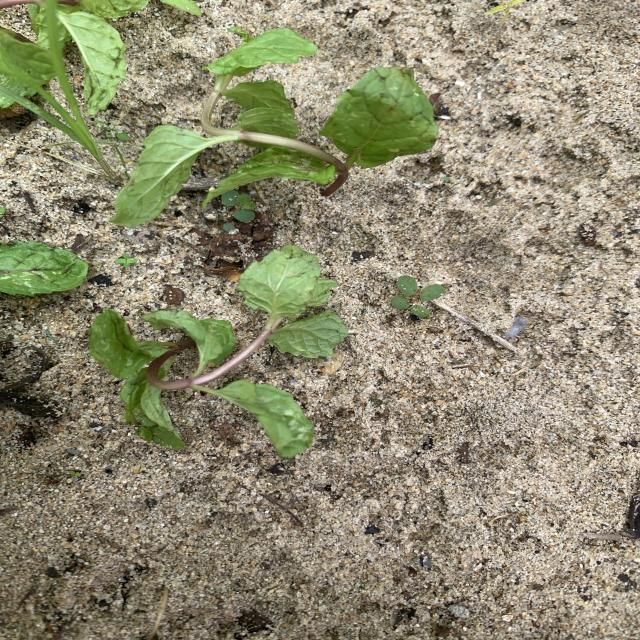crop: (115, 29, 438, 225), (90, 246, 347, 455), (0, 1, 147, 113), (1, 240, 87, 294)
weed: (0, 64, 114, 179), (390, 276, 445, 318), (222, 190, 255, 221), (485, 1, 523, 19), (115, 254, 136, 267), (68, 471, 79, 475)
